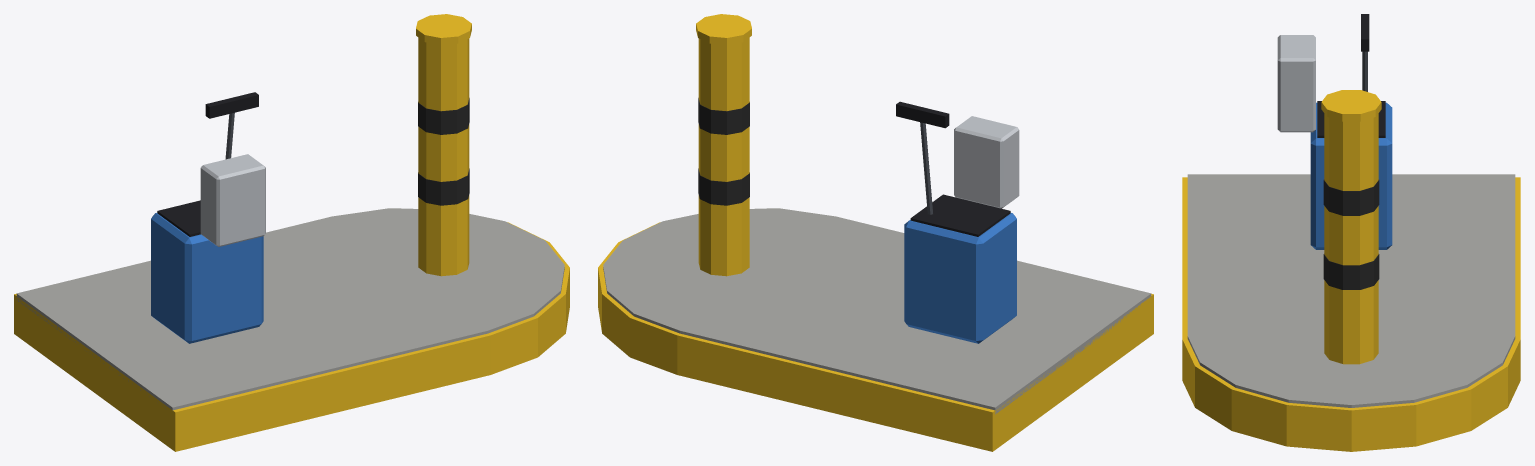
The model's file is Island_Curb_End.glb.
3 views of the same model, side by side, from view 1: azimuth 30°, elevation 25°; view 2: azimuth 150°, elevation 25°; view 3: azimuth 270°, elevation 25° (orthographic). The views are drawn at different scales.
Parts seen in each view (by area): view 1: Island_Curb_End; view 2: Island_Curb_End; view 3: Island_Curb_End.
Part boxes in pixels (bbox=[...]): Island_Curb_End: bbox=[14, 14, 569, 451]; Island_Curb_End: bbox=[598, 14, 1153, 451]; Island_Curb_End: bbox=[1182, 14, 1520, 451].
Bounding box in the file's own units: 2.02 × 1.19 × 1.24.
1 material, 1 textured.
